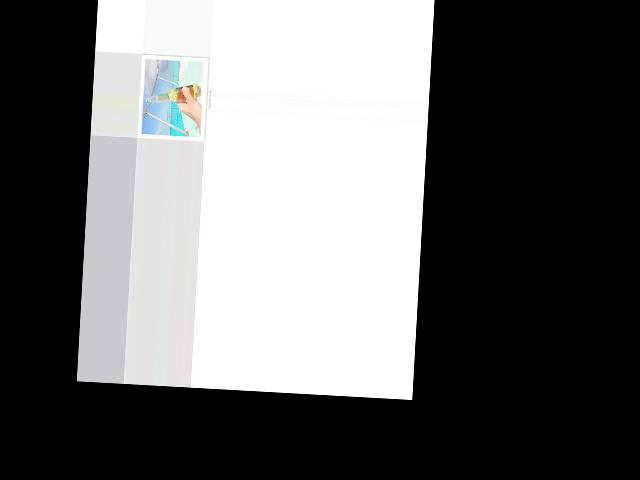beer: (146, 80, 201, 108)
